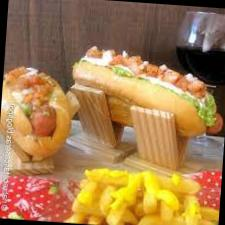Completos: (67, 38, 220, 135), (0, 65, 75, 160)
